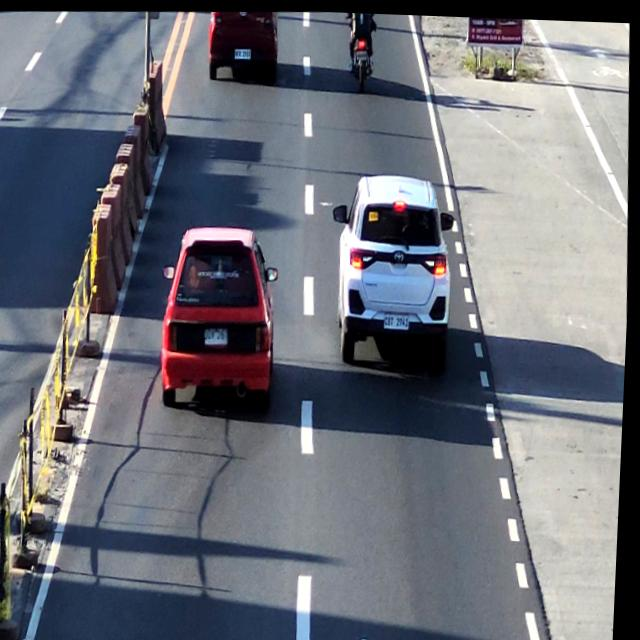Car: (334, 171, 454, 367), (163, 220, 280, 409), (204, 7, 281, 79)
License-Plate: (386, 307, 413, 331), (205, 321, 232, 344), (231, 43, 253, 58), (354, 48, 369, 56)
Motorcycle: (345, 10, 376, 92), (340, 627, 383, 640)
